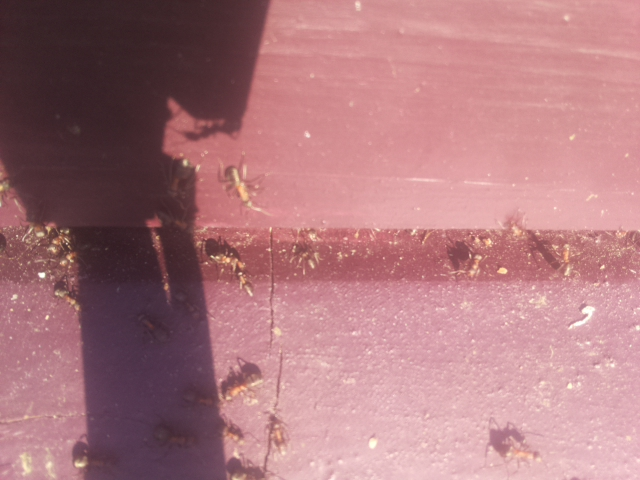ant: (213, 158, 271, 217), (61, 434, 125, 480), (145, 417, 204, 454), (217, 369, 270, 404), (130, 306, 174, 348), (175, 116, 229, 146), (225, 252, 259, 298), (562, 299, 599, 331), (52, 279, 84, 313), (266, 416, 290, 459)
